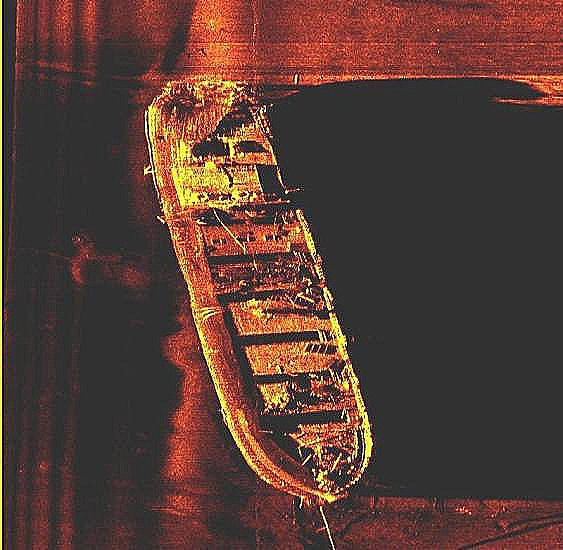ship: (140, 73, 375, 548)
